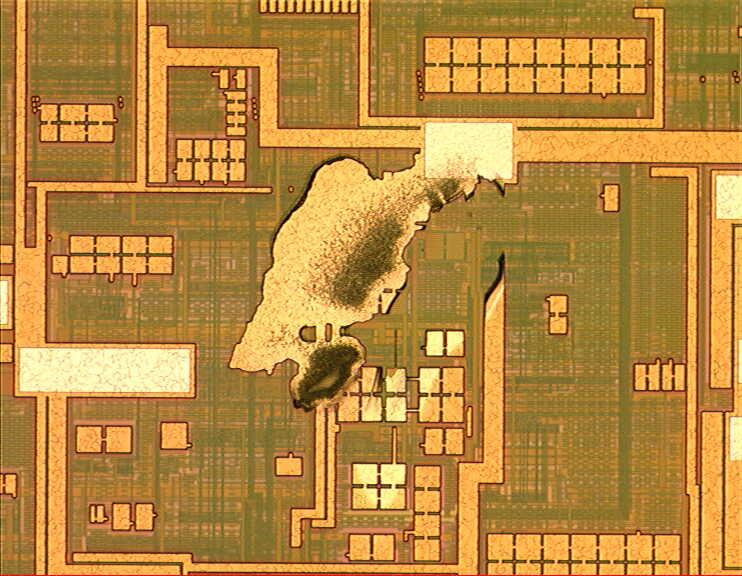BLOCK ETCH: (223, 128, 515, 416)
